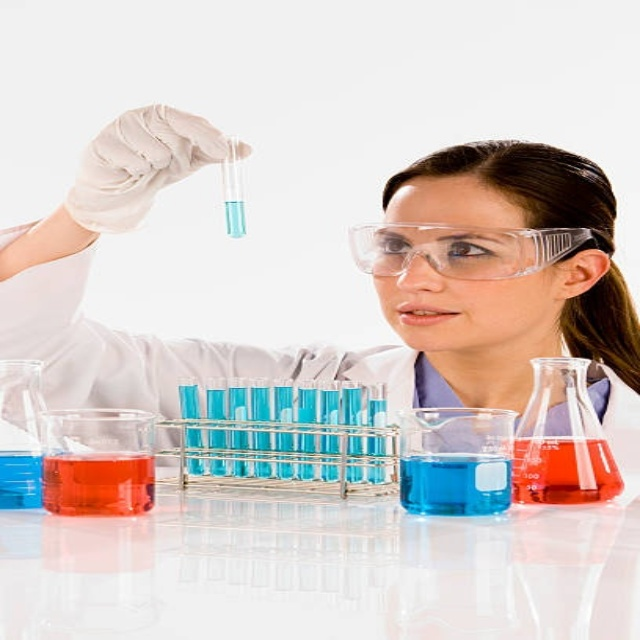Gafas: (349, 224, 600, 281)
Guantes: (62, 104, 253, 233)
Sin_mascara: (384, 298, 482, 342)
